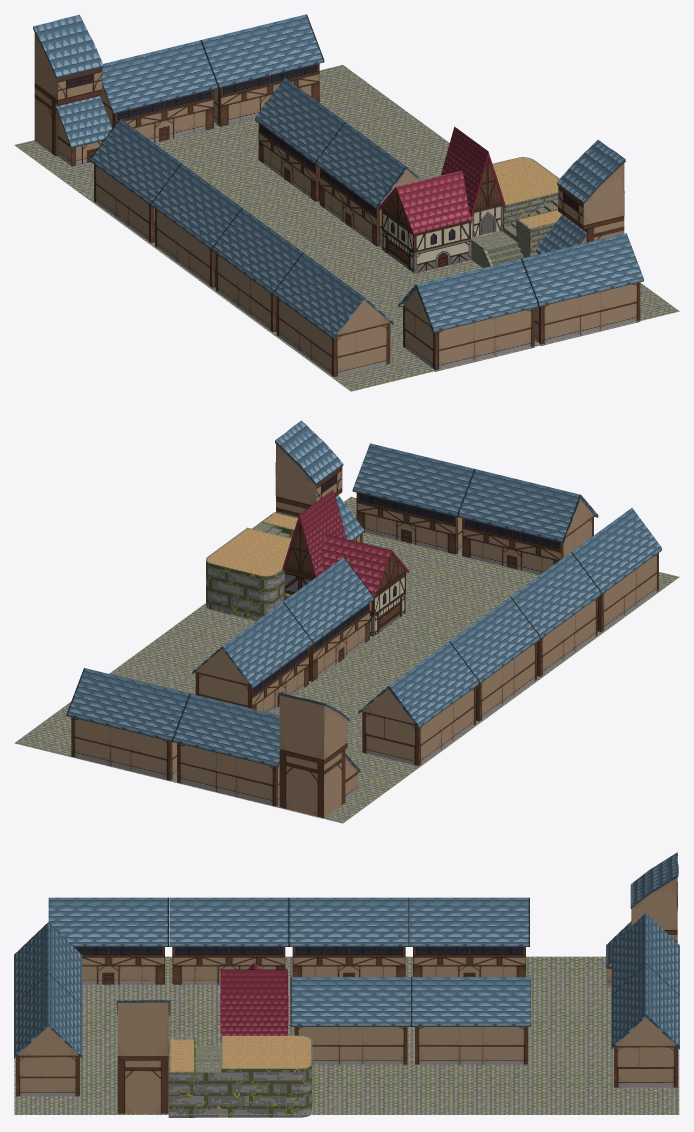
Rendered from Town.fbx.
3 views of the same model, one above another, from view 1: azimuth 30°, elevation 25°; view 2: azimuth 150°, elevation 25°; view 3: azimuth 270°, elevation 25° (orthographic).
Visible parts, largest first — view 1: Plane.001, New object.016, New object.026, New object.017, New object.025, New object.018, New object.019, New object.020, New object.022, New object.029, New object.021, New object.023 (+3 smaller); view 2: Plane.001, New object.016, New object.020, New object.017, New object.023, New object.019, New object.021, New object.018, New object.026, New object.028, New object.025, New object.024 (+3 smaller); view 3: Plane.001, New object.028, New object.021, New object.022, New object.024, New object.023, New object.029, New object.025, New object.020, New object.017, New object.027, New object.026 (+3 smaller).
Boxes of the visible parts, left/top/right/bottom form: Plane.001: left=14, top=65, right=679, bottom=391; New object.016: left=398, top=259, right=538, bottom=371; New object.026: left=378, top=126, right=505, bottom=273; New object.017: left=521, top=233, right=643, bottom=345; New object.025: left=273, top=252, right=393, bottom=377; New object.018: left=33, top=14, right=112, bottom=166; New object.019: left=100, top=40, right=218, bottom=142; New object.020: left=201, top=14, right=324, bottom=126; New object.022: left=316, top=122, right=421, bottom=246; New object.029: left=212, top=208, right=302, bottom=332; New object.021: left=255, top=78, right=345, bottom=201; New object.023: left=90, top=118, right=180, bottom=243; Plane.001: left=14, top=496, right=679, bottom=823; New object.016: left=458, top=469, right=598, bottom=574; New object.020: left=66, top=668, right=189, bottom=780; New object.017: left=352, top=443, right=475, bottom=554; New object.023: left=358, top=642, right=478, bottom=765; New object.019: left=172, top=693, right=279, bottom=806; New object.021: left=192, top=602, right=312, bottom=712; New object.018: left=278, top=692, right=360, bottom=817; New object.026: left=282, top=490, right=408, bottom=636; New object.028: left=206, top=512, right=297, bottom=620; New object.025: left=571, top=508, right=661, bottom=632; New object.024: left=449, top=597, right=539, bottom=721; Plane.001: left=14, top=956, right=679, bottom=1114; New object.028: left=168, top=1035, right=312, bottom=1117; New object.021: left=411, top=977, right=530, bottom=1064; New object.022: left=290, top=977, right=410, bottom=1064; New object.024: left=289, top=897, right=409, bottom=976; New object.023: left=410, top=897, right=529, bottom=976; New object.029: left=169, top=897, right=289, bottom=984; New object.025: left=48, top=897, right=168, bottom=984; New object.020: left=611, top=964, right=679, bottom=1087; New object.017: left=14, top=973, right=82, bottom=1096; New object.027: left=116, top=1000, right=170, bottom=1113; New object.026: left=220, top=963, right=288, bottom=1041.
Size of the model in its own units: 1695 by 584 by 3013.
18 materials, 18 textured.
